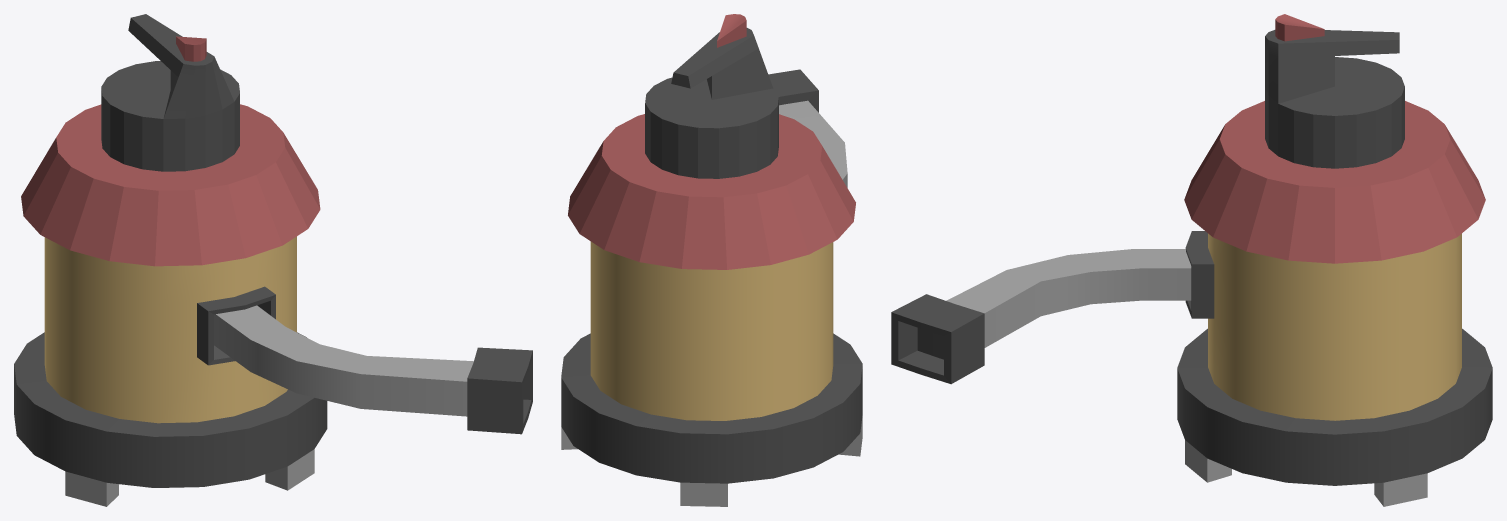
File: Vacuum.fbx
3 renders of one model, left to right at view 1: azimuth 30°, elevation 25°; view 2: azimuth 150°, elevation 25°; view 3: azimuth 270°, elevation 25°, orthographic. The views are drawn at different scales.
Parts seen in each view (by area): view 1: pCylinder1; view 2: pCylinder1; view 3: pCylinder1.
Boxes of the visible parts, x1,y1,x2,y2 form: pCylinder1: [14, 14, 532, 506]; pCylinder1: [561, 14, 862, 506]; pCylinder1: [891, 14, 1492, 506].
Bounding box in the file's own units: 18.93 × 24.95 × 32.06.
